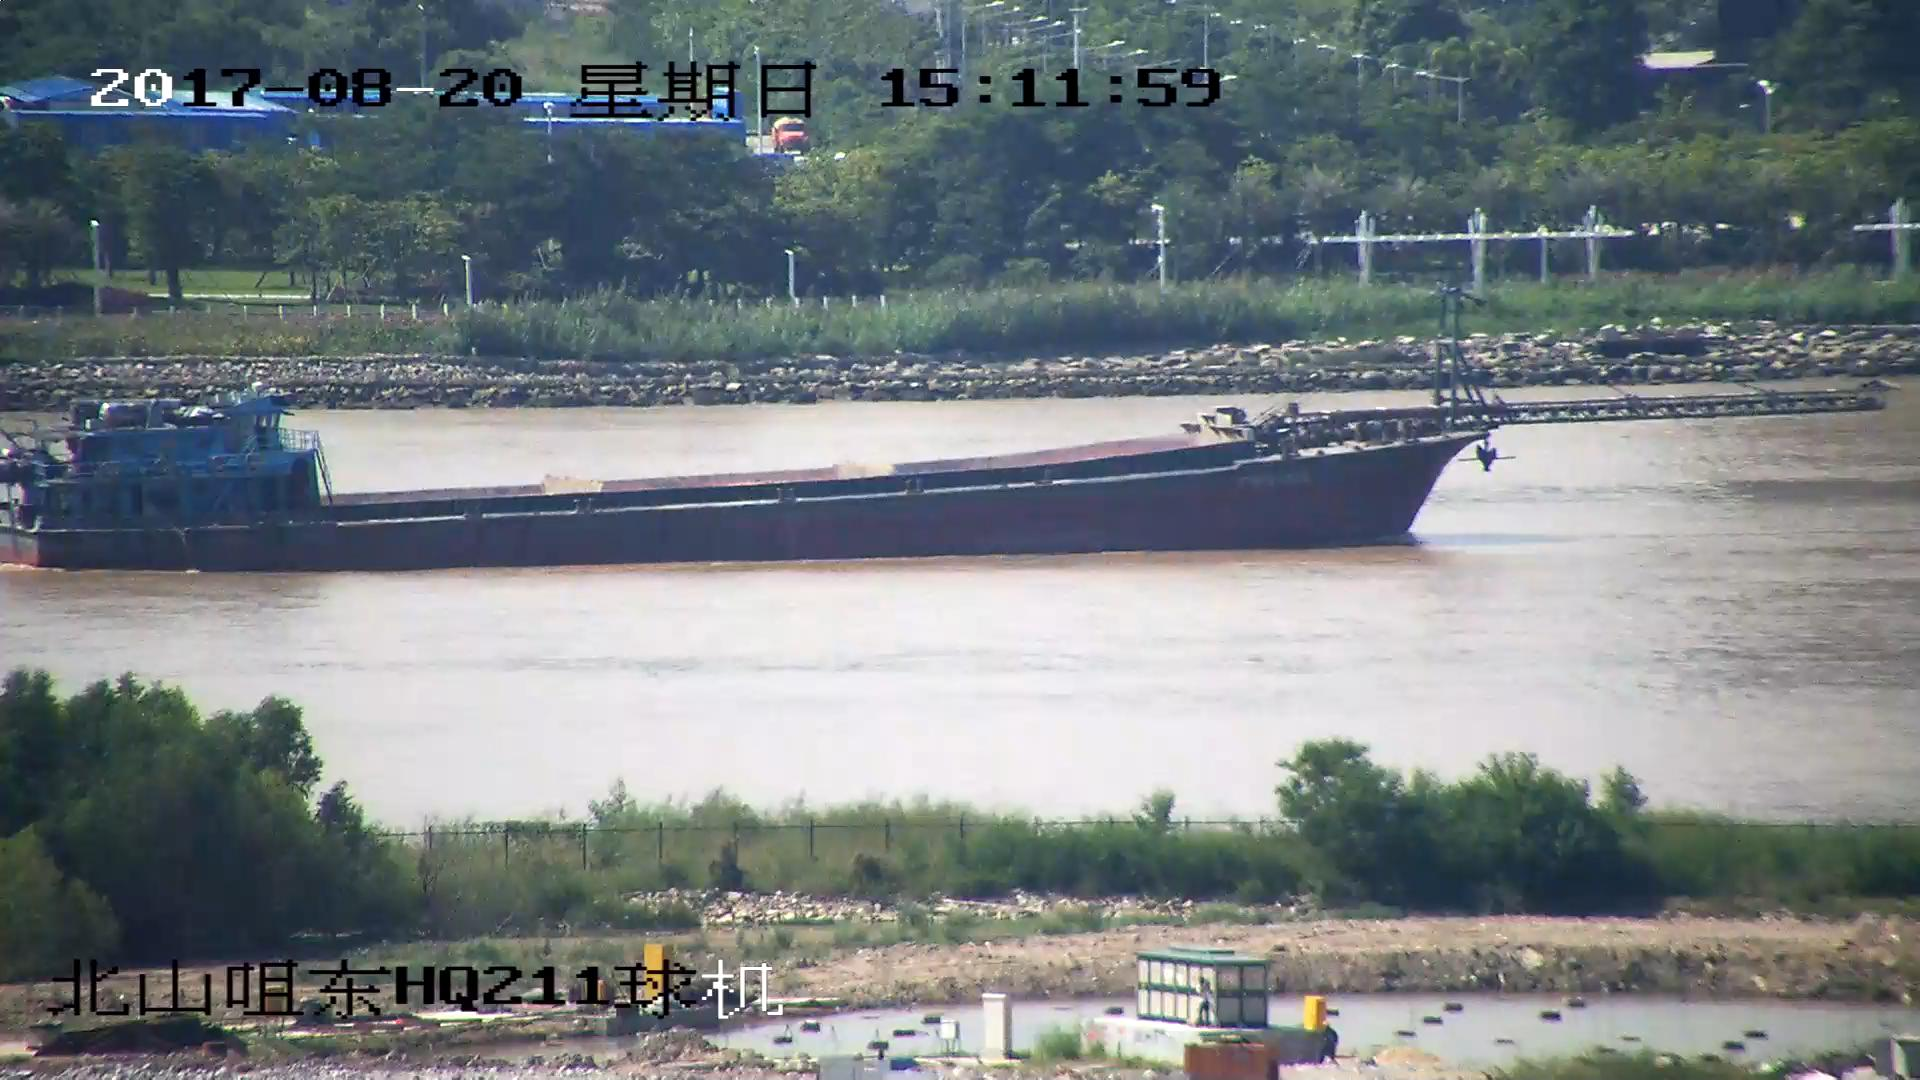bulk cargo carrier: (1, 277, 1882, 567)
